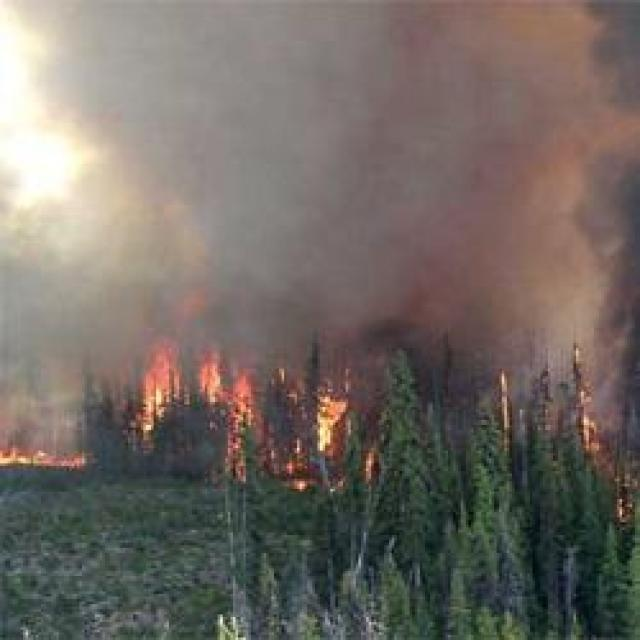Fire: (194, 362, 276, 470), (103, 344, 181, 442), (138, 347, 179, 450), (574, 368, 600, 458), (0, 449, 83, 472), (317, 396, 345, 461)
Smoke: (4, 3, 617, 307)
